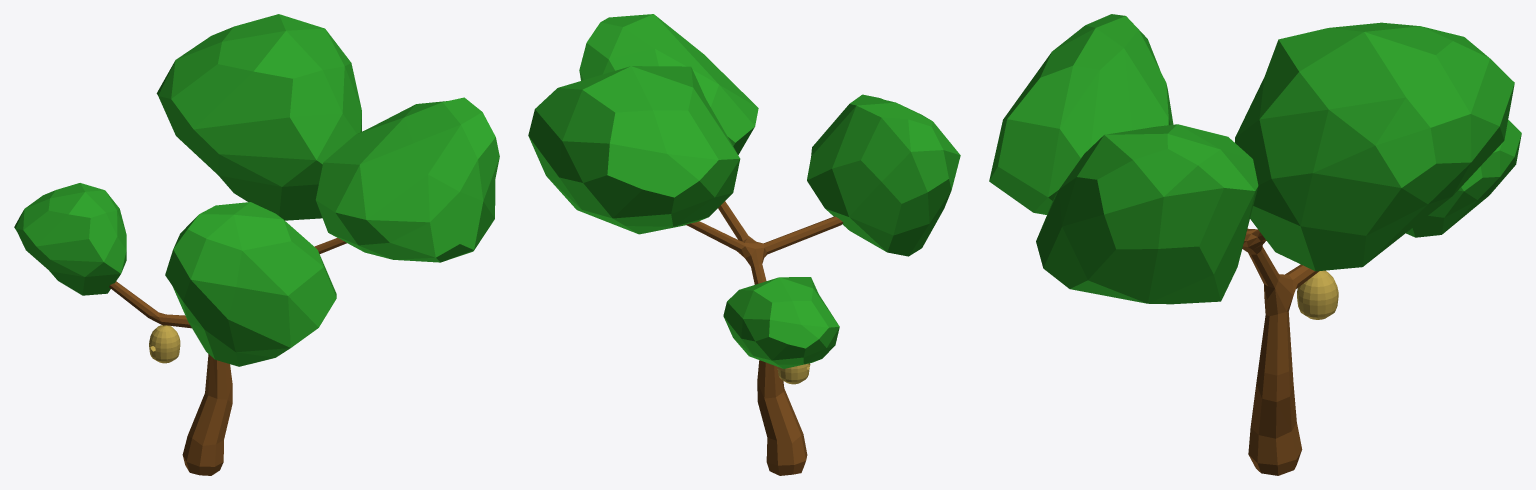
Rendered from Treebee.fbx.
3 renders of one model, left to right at view 1: azimuth 30°, elevation 25°; view 2: azimuth 150°, elevation 25°; view 3: azimuth 270°, elevation 25°, orthographic. The views are drawn at different scales.
Visible parts, largest first — view 1: Cylinder.010; view 2: Cylinder.010; view 3: Cylinder.010.
Part boxes in pixels (<box>): Cylinder.010: <box>14,14,499,475</box>; Cylinder.010: <box>528,14,960,475</box>; Cylinder.010: <box>989,14,1521,475</box>.
Size of the model in its own units: 1017 by 1094 by 1025.
